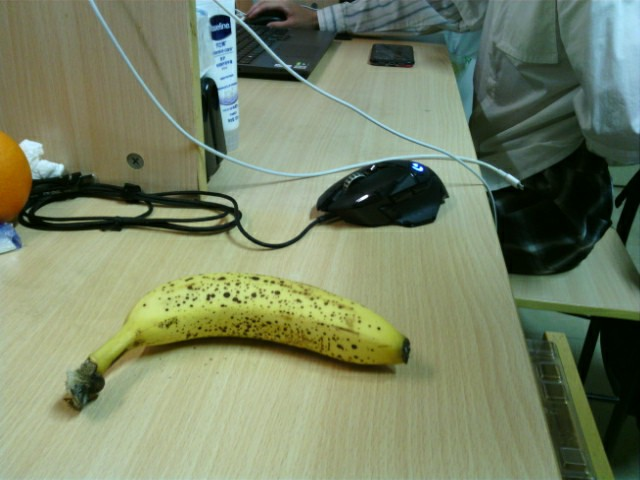normal_banana: (65, 272, 410, 415)
